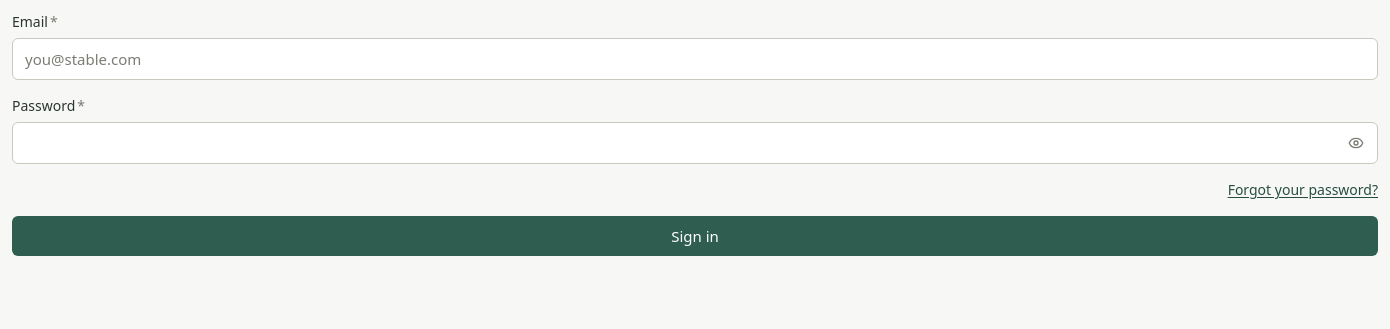
it: LoginForm › reports missing and malformed values instead of submitting
This screenshot has width=1390, height=329.
Click the button "Sign in": [695, 236] box [12, 216, 1378, 256]
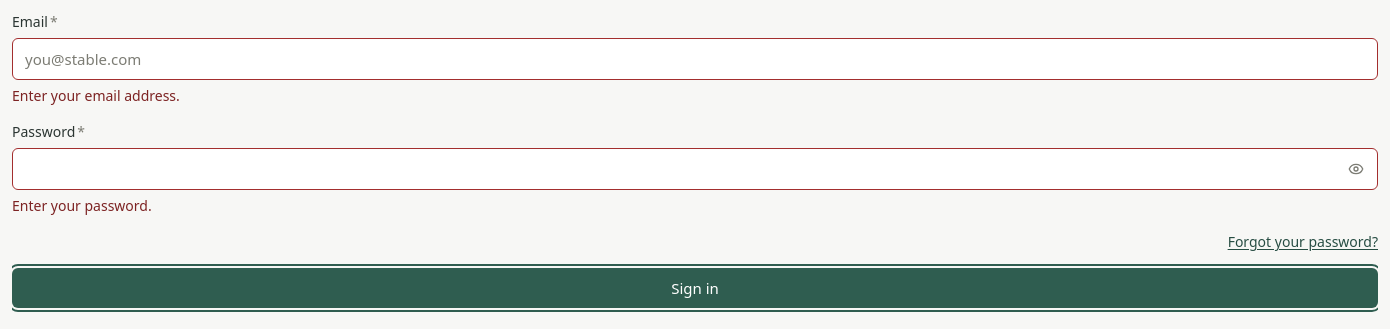
Expected: the text "Enter your email address." is shown, [12, 86, 180, 105]
Expected: the text "Enter your password." is shown, [12, 196, 152, 215]
In the field labelled "Email*": [695, 59] box [12, 38, 1378, 80], type "not-an-email"
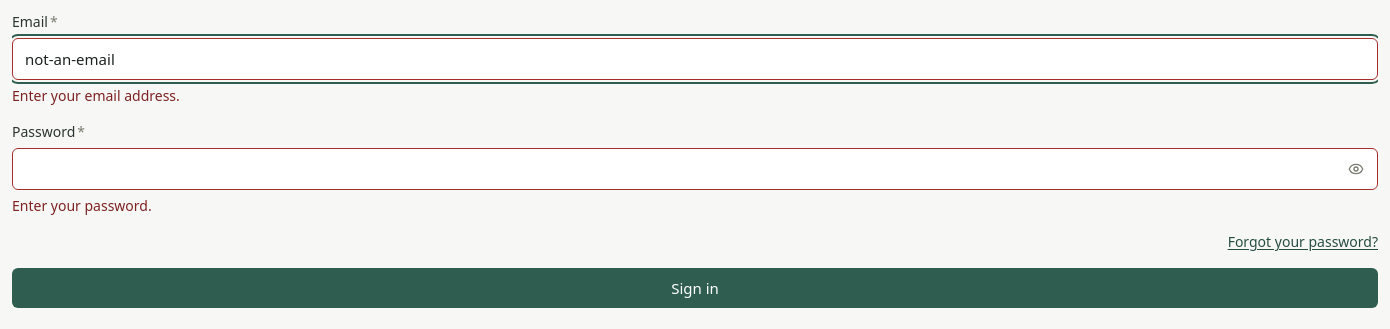
In the password field labelled "Password*": [695, 169] box [12, 148, 1378, 190], type "somepassword1"
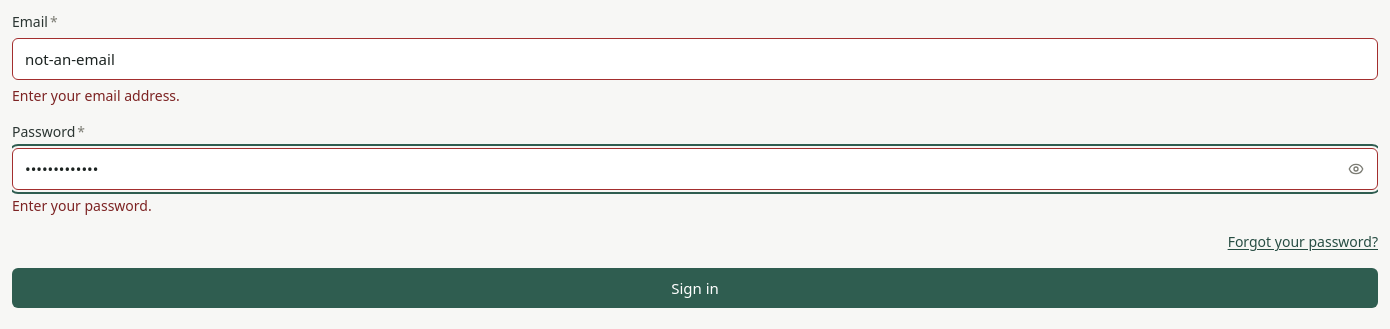
Click the button "Sign in": [695, 288] box [12, 268, 1378, 308]
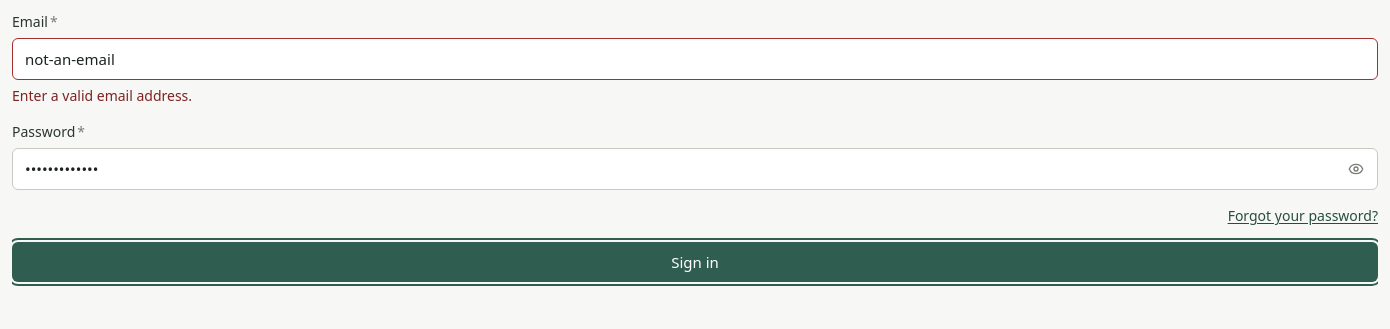
Expected: the text "Enter a valid email address." is shown, [12, 86, 192, 105]
